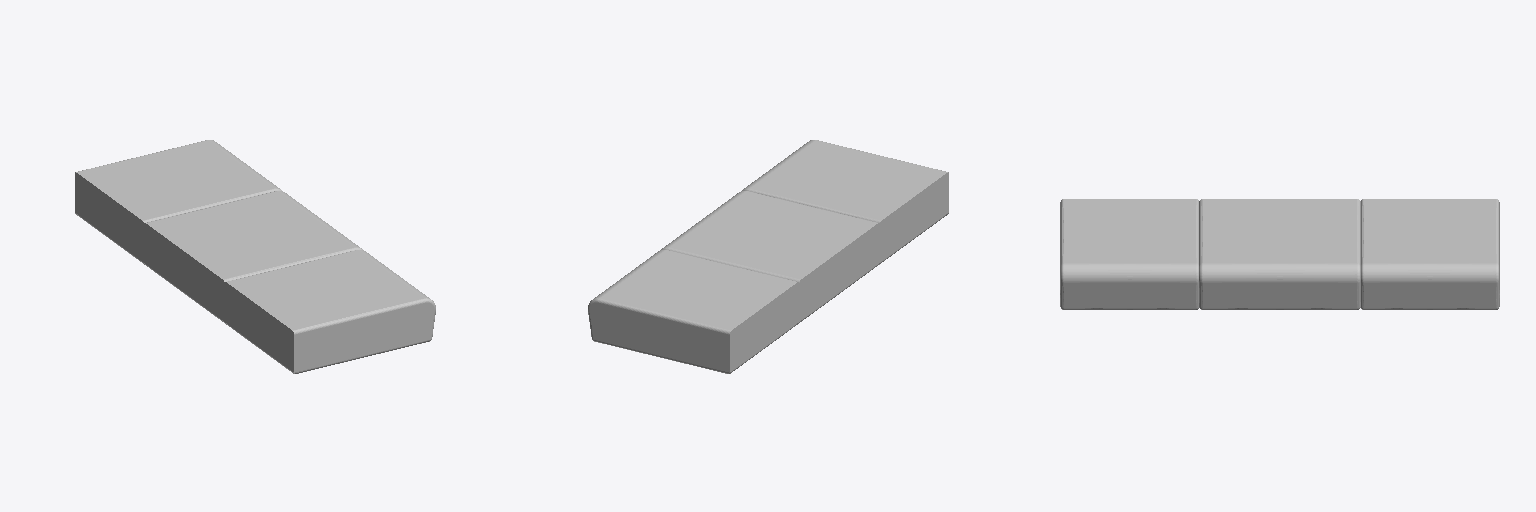
File: seat.obj
3 renders of one model, left to right at view 1: azimuth 30°, elevation 25°; view 2: azimuth 150°, elevation 25°; view 3: azimuth 270°, elevation 25°, orthographic.
Visible parts, largest first — view 1: seat_mesh2.006_mesh2-geometry; view 2: seat_mesh2.006_mesh2-geometry; view 3: seat_mesh2.006_mesh2-geometry.
Boxes of the visible parts, box(x1,y1,x2,y2) form: seat_mesh2.006_mesh2-geometry: box(75, 140, 435, 373); seat_mesh2.006_mesh2-geometry: box(588, 140, 948, 373); seat_mesh2.006_mesh2-geometry: box(1060, 199, 1499, 309).
Size of the model in its own units: 0.2894 by 0.0851 by 0.7679.